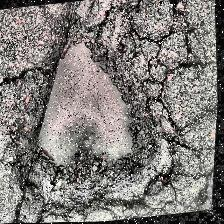pothole: (22, 31, 152, 183)
